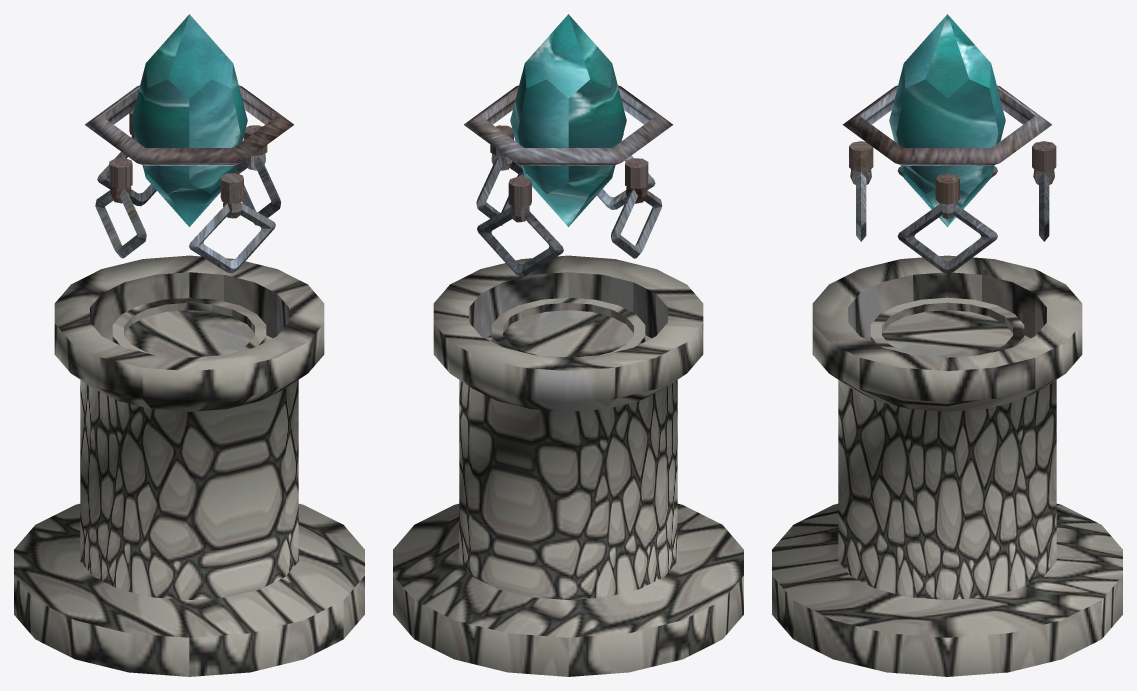
Rendered from Gate.FBX.
3 views of the same model, side by side, from view 1: azimuth 30°, elevation 25°; view 2: azimuth 150°, elevation 25°; view 3: azimuth 270°, elevation 25° (orthographic).
Visible parts, largest first — view 1: objGate; view 2: objGate; view 3: objGate.
Part boxes in pixels (left/top/right/bottom): objGate: left=14, top=14, right=364, bottom=676; objGate: left=393, top=14, right=743, bottom=676; objGate: left=772, top=14, right=1122, bottom=676.
Bounding box in the file's own units: 67.04 × 122 × 66.03.
Materials: 1 (1 with a texture image).
